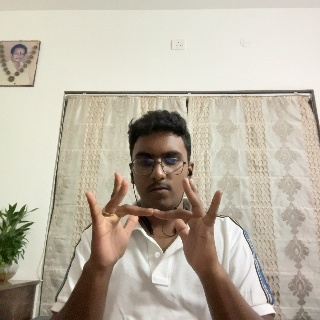Internet: (87, 172, 222, 281)
